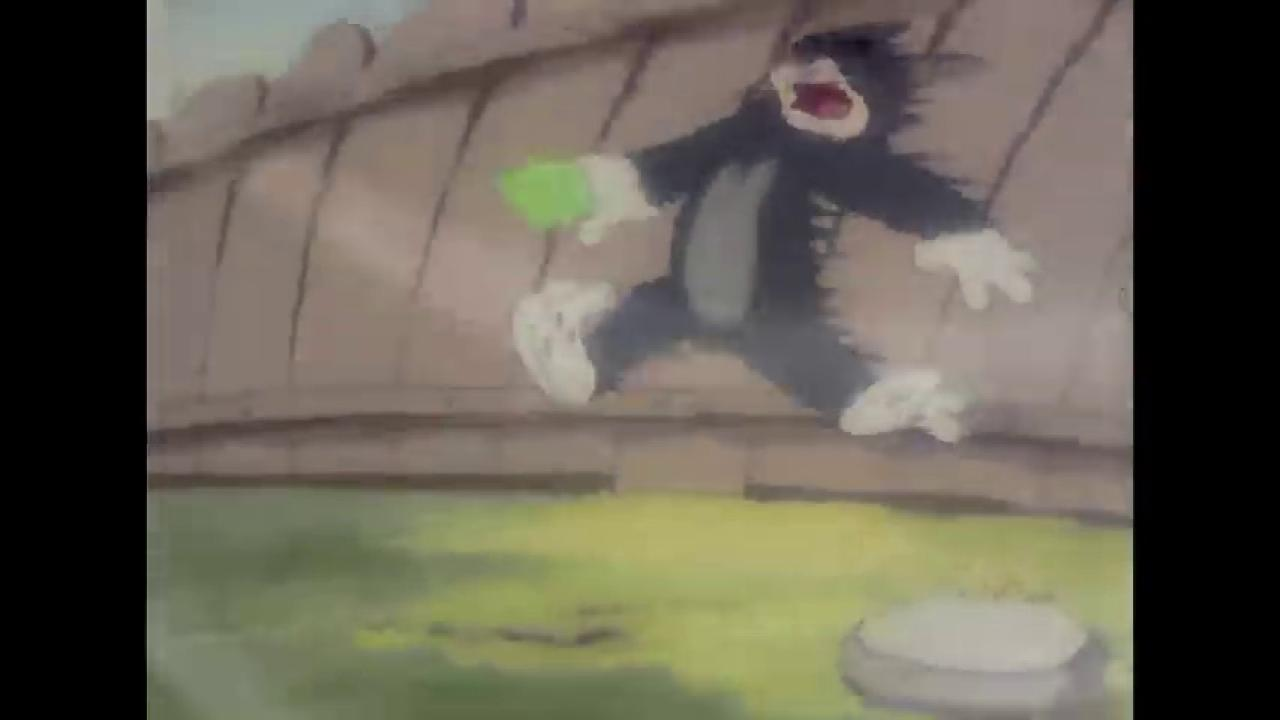Tom: (509, 18, 1043, 447)
